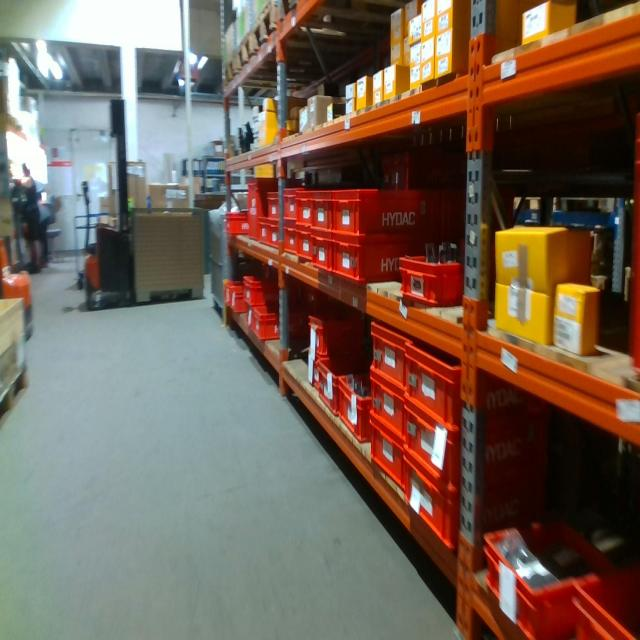pallet: (0, 363, 32, 426), (256, 0, 278, 60), (236, 24, 256, 82), (219, 54, 237, 97), (280, 0, 309, 23)
pallet_truck: (80, 86, 134, 315), (2, 224, 35, 336)
small_load_carrier: (407, 456, 557, 551), (484, 533, 611, 640), (407, 343, 556, 426), (407, 405, 559, 479), (331, 184, 449, 242), (397, 245, 466, 306), (577, 567, 638, 635), (249, 176, 303, 240), (331, 235, 394, 289), (369, 319, 412, 398), (369, 375, 407, 452), (369, 421, 407, 494), (308, 312, 367, 357), (304, 353, 367, 395), (319, 363, 367, 411), (340, 376, 370, 446), (253, 306, 304, 341), (243, 276, 296, 304), (312, 228, 332, 269), (312, 190, 332, 226), (297, 225, 312, 262), (226, 211, 249, 235), (296, 191, 311, 227), (283, 220, 297, 256), (283, 186, 296, 224), (224, 281, 242, 307), (269, 217, 280, 249), (269, 190, 280, 217), (260, 217, 270, 245), (233, 292, 243, 311), (245, 304, 251, 326)
stillage: (131, 206, 206, 303), (207, 209, 227, 318)
